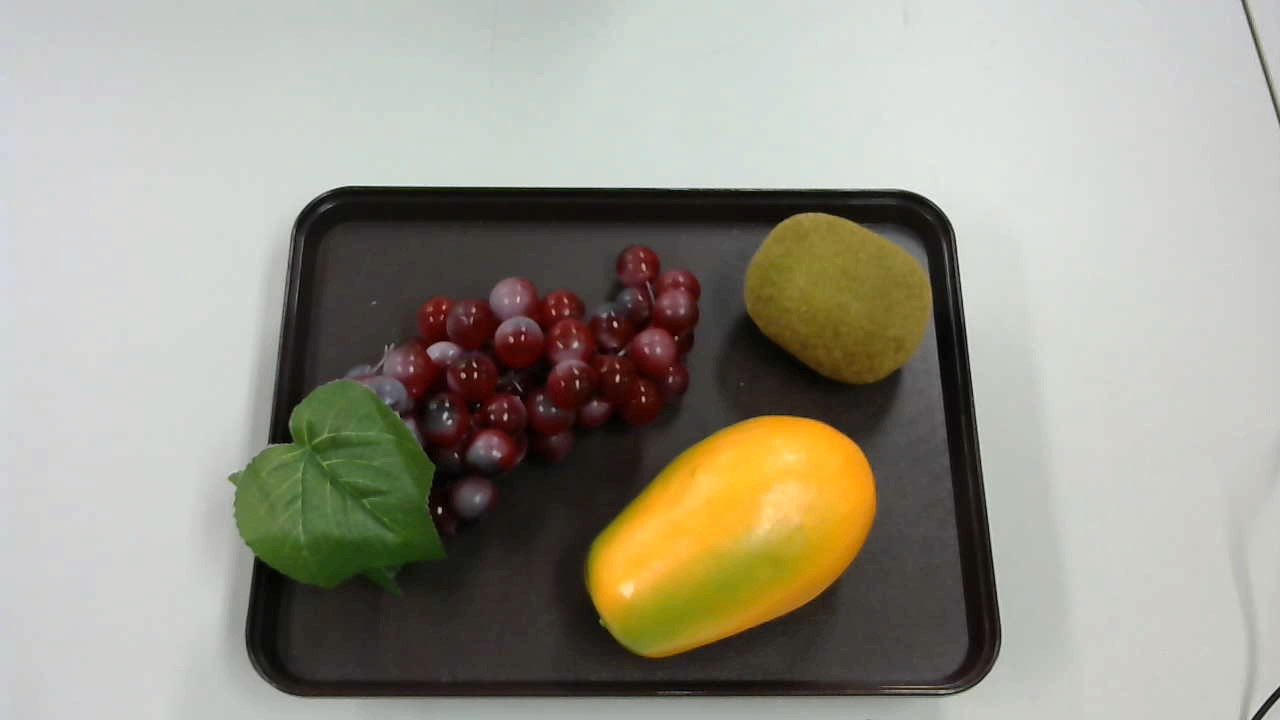grape: (228, 248, 702, 585)
kiwi fruit: (742, 210, 932, 389)
papya: (581, 410, 881, 661)
